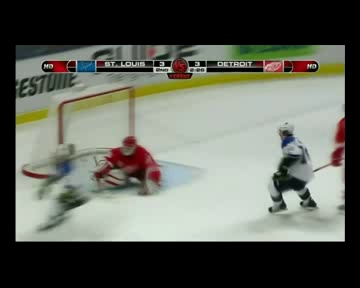normal: (255, 115, 320, 216), (90, 130, 170, 197)
